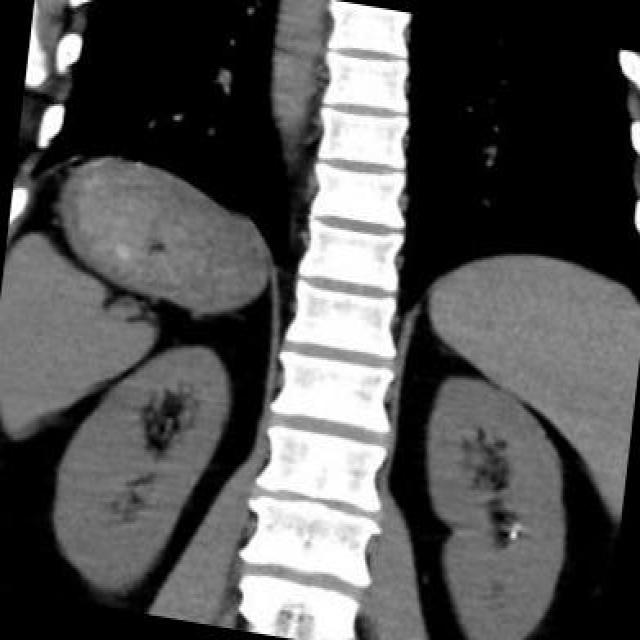Tas_Var: (508, 517, 523, 531), (507, 528, 518, 542)
